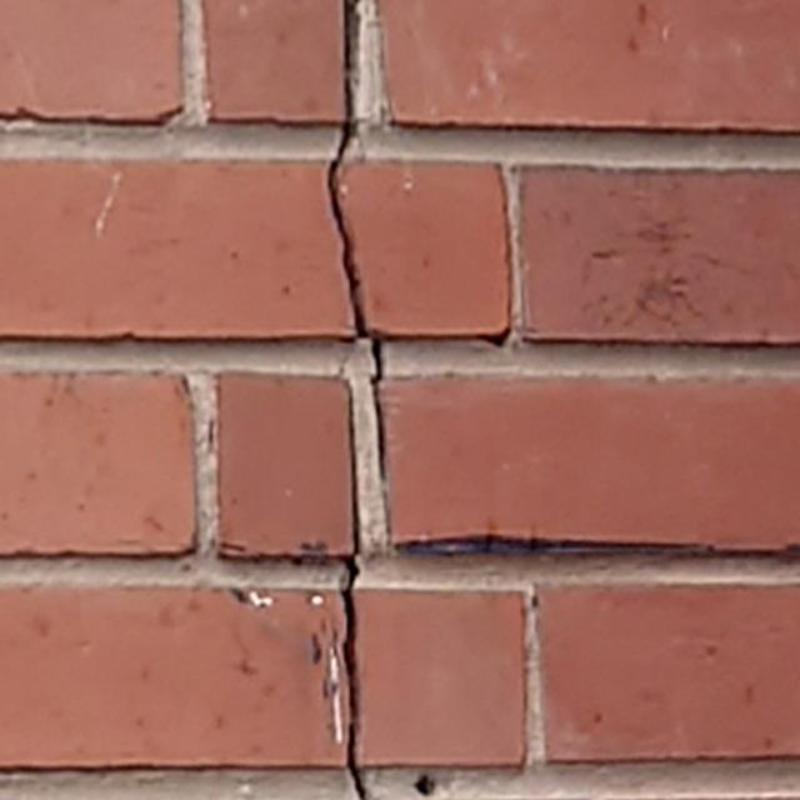crack: (328, 0, 384, 487), (345, 559, 362, 799)
